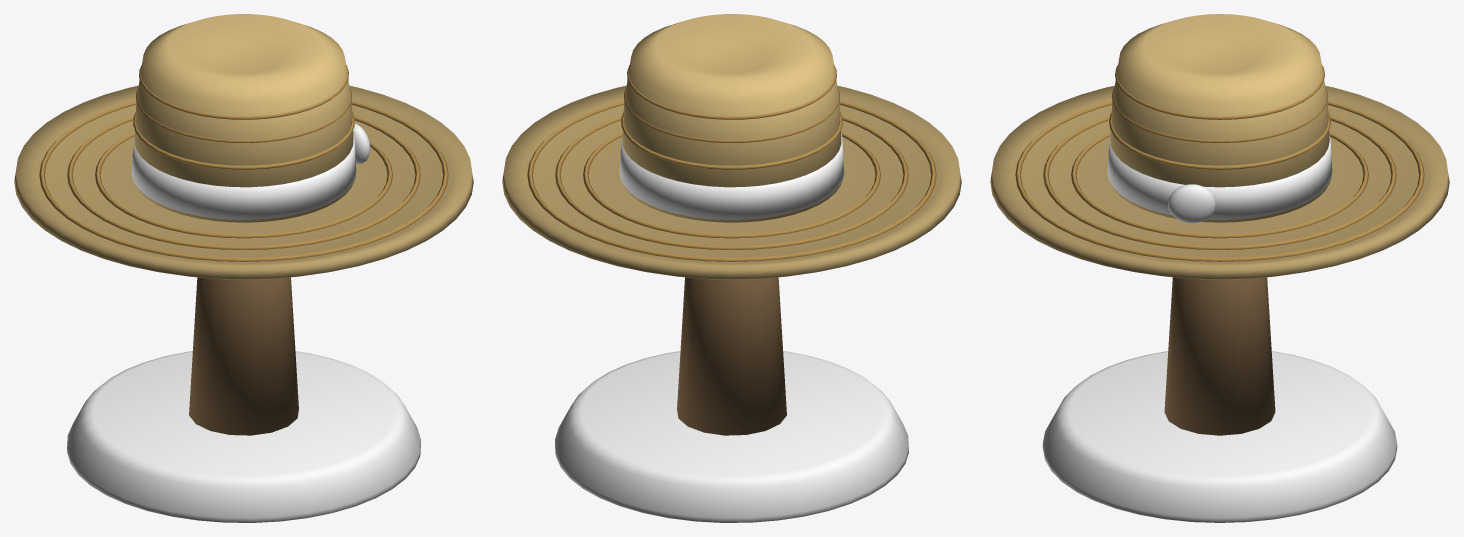
Rendered from chupalla-BRJPc6T3.glb.
3 renders of one model, left to right at view 1: azimuth 30°, elevation 25°; view 2: azimuth 150°, elevation 25°; view 3: azimuth 270°, elevation 25°, orthographic.
Visible parts, largest first — view 1: Body, Tint; view 2: Body, Tint; view 3: Body, Tint.
Part boxes in pixels (<box>): Body: <box>14,14,473,435</box>; Tint: <box>67,123,420,522</box>; Body: <box>502,14,961,435</box>; Tint: <box>555,134,908,522</box>; Body: <box>990,14,1449,435</box>; Tint: <box>1042,135,1397,522</box>.
Bounding box in the file's own units: 1.32 × 1.28 × 1.32.
2 materials, 2 textured.
